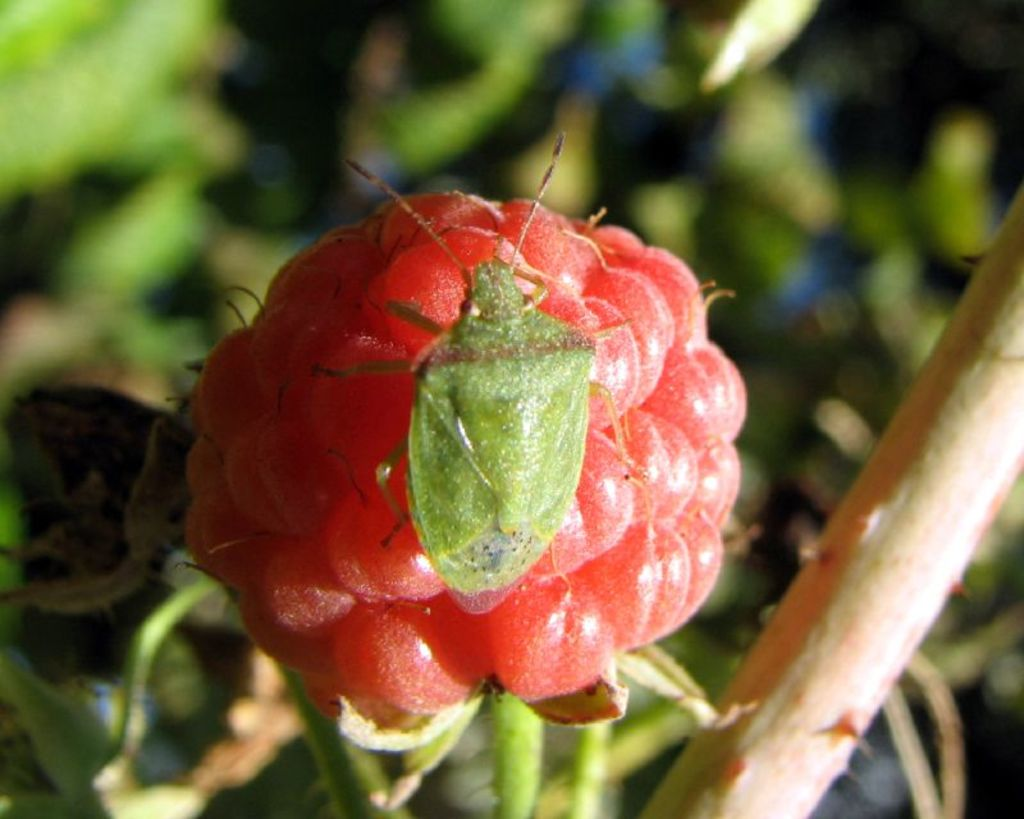Animal: (313, 123, 646, 588)
